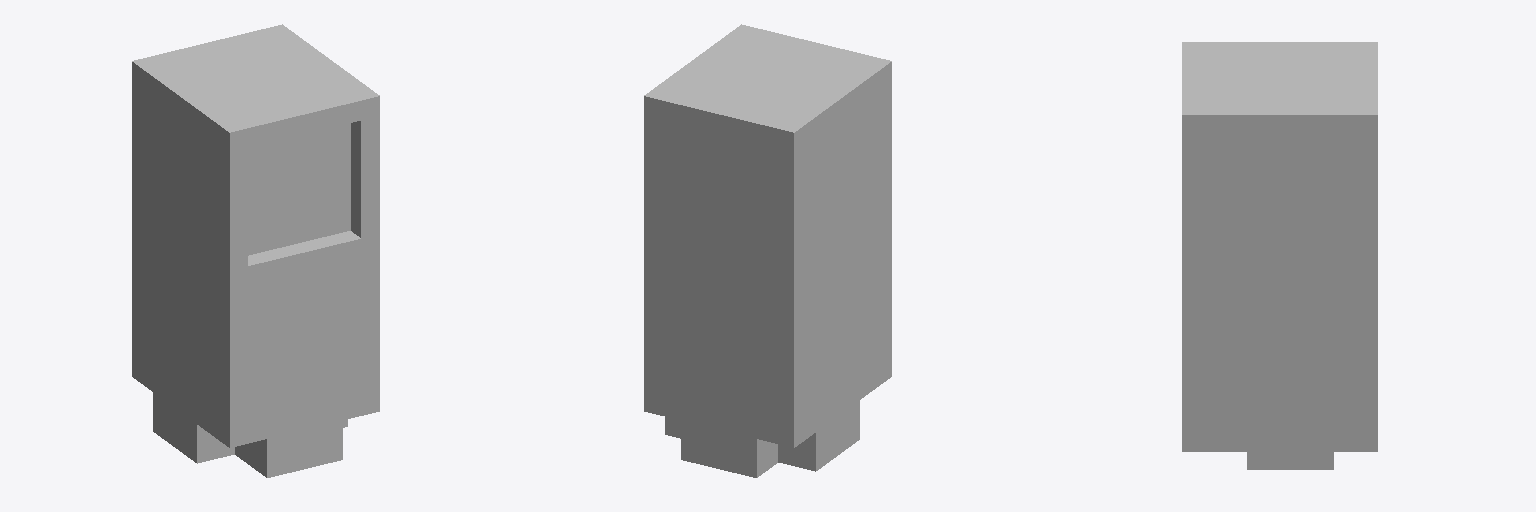
File: turret.obj
3 views of the same model, side by side, from view 1: azimuth 30°, elevation 25°; view 2: azimuth 150°, elevation 25°; view 3: azimuth 270°, elevation 25° (orthographic).
Visible parts, largest first — view 1: object 1; view 2: object 1; view 3: object 1.
Boxes of the visible parts, <box> form: object 1: <box>132,24,379,477</box>; object 1: <box>644,24,891,477</box>; object 1: <box>1182,42,1377,469</box>.
Size of the model in its own units: 0.8 by 1.8 by 0.9.